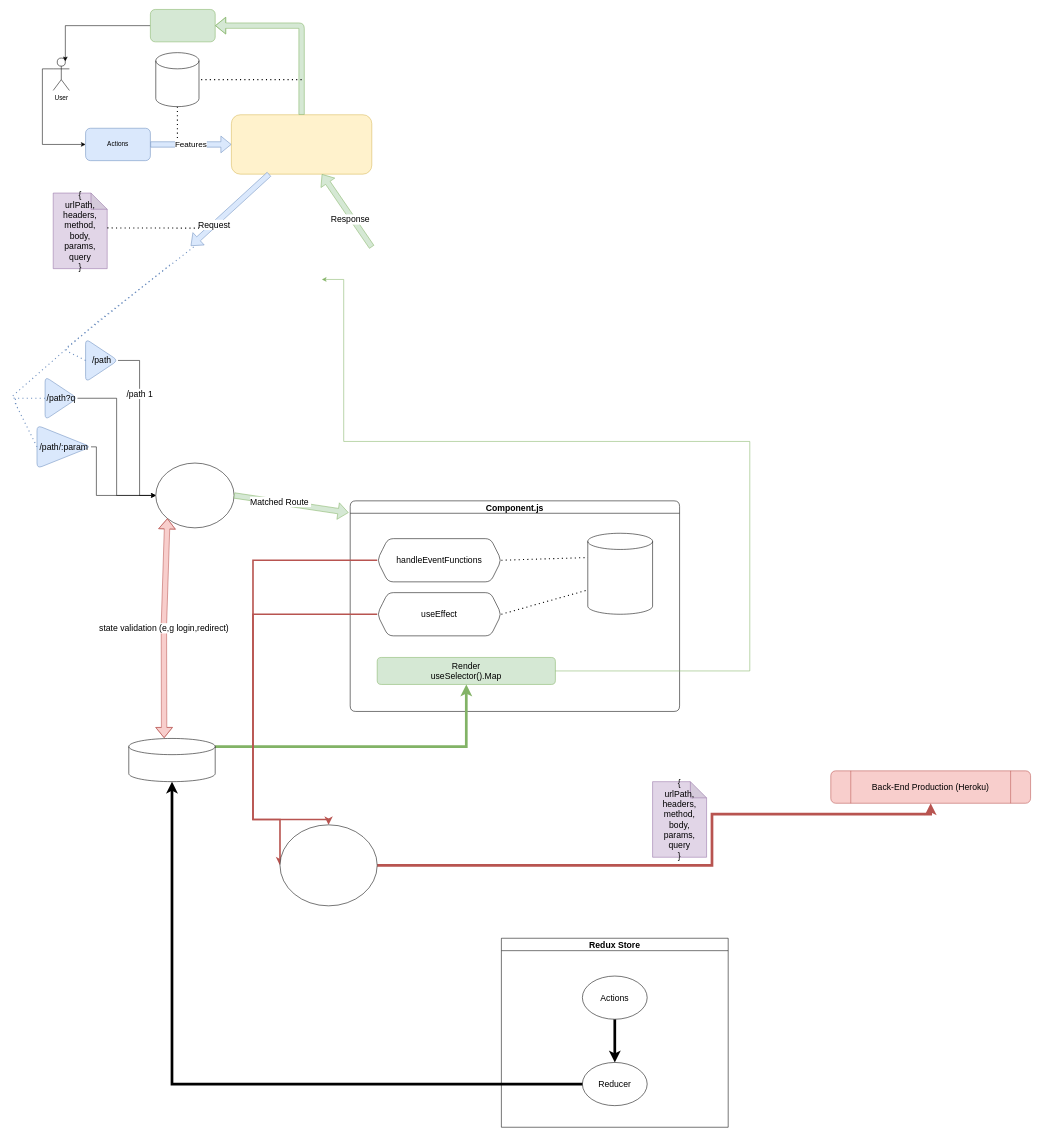
Image size: 1040x1137. Some labels were removed from this diagram. Here are the shapes that lost their labels. From the top down, the centre of each, then its label:
At point (182, 25): "Visual UIs".
At point (177, 79): "Browser Storages".
At point (301, 144): "Client Browser".
At point (194, 495): "Router".
At point (620, 573): "Component states and life cycle".
At point (171, 760): "Redux State".
At point (328, 865): "Middlewares ( Async function ?)".
